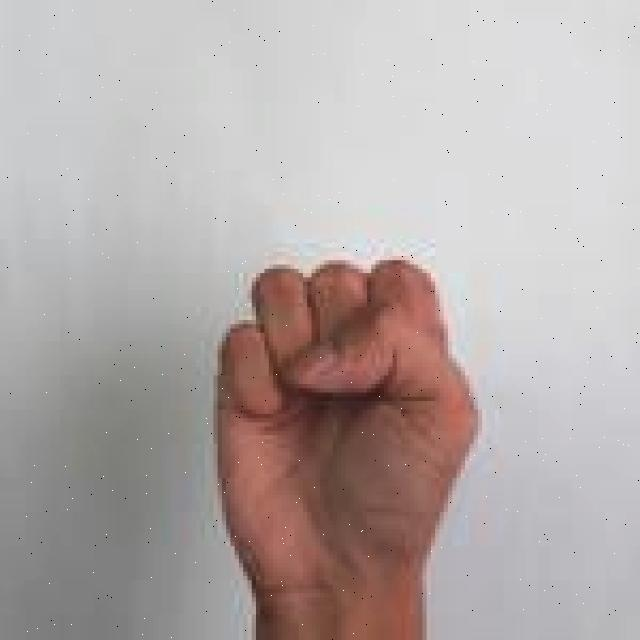S: (210, 248, 489, 640)
